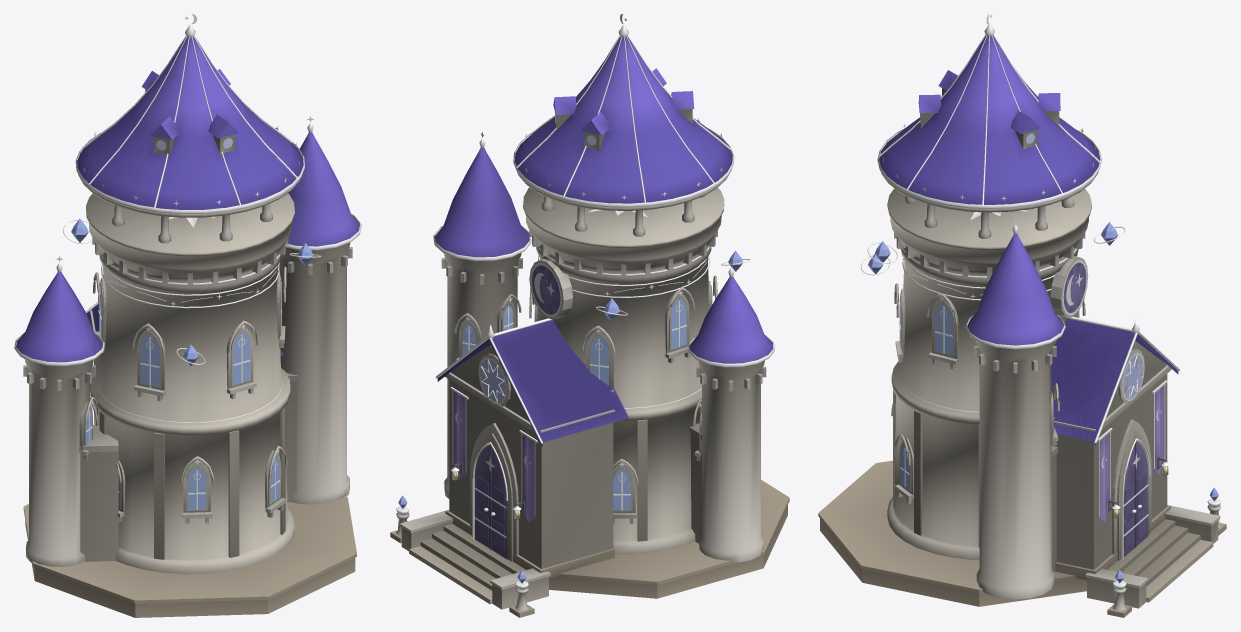
The model's file is mage_hq.glb.
The picture shows the model from 3 angles, left to right: view 1: azimuth 30°, elevation 25°; view 2: azimuth 150°, elevation 25°; view 3: azimuth 270°, elevation 25°; orthographic projection. The views are drawn at different scales.
Parts seen in each view (by area): view 1: Mage_stone, Mage_roof, Mage_gold, Mage_glow; view 2: Mage_stone, Mage_roof, Mage_gold, Mage_props, Mage_glow; view 3: Mage_stone, Mage_roof, Mage_gold, Mage_props, Mage_glow.
Boxes of the visible parts, box(x1,y1,x2,y2) form: Mage_stone: box(23, 89, 356, 617); Mage_roof: box(16, 37, 359, 362); Mage_gold: box(14, 14, 361, 509); Mage_glow: box(71, 138, 313, 509); Mage_stone: box(390, 109, 789, 617); Mage_roof: box(435, 36, 773, 446); Mage_gold: box(396, 14, 774, 589); Mage_props: box(452, 265, 560, 559); Mage_glow: box(398, 114, 742, 583); Mage_stone: box(818, 88, 1226, 617); Mage_roof: box(879, 36, 1178, 446); Mage_gold: box(860, 14, 1220, 589); Mage_props: box(1063, 262, 1168, 557); Mage_glow: box(868, 111, 1218, 583).
Size of the model in its own units: 13.27 by 19.98 by 14.18.
